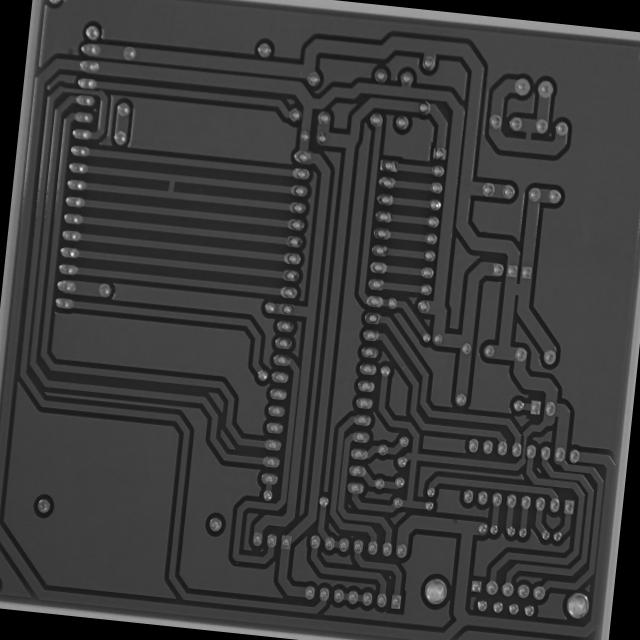short: (158, 170, 184, 200), (506, 278, 528, 302), (518, 125, 538, 147)
